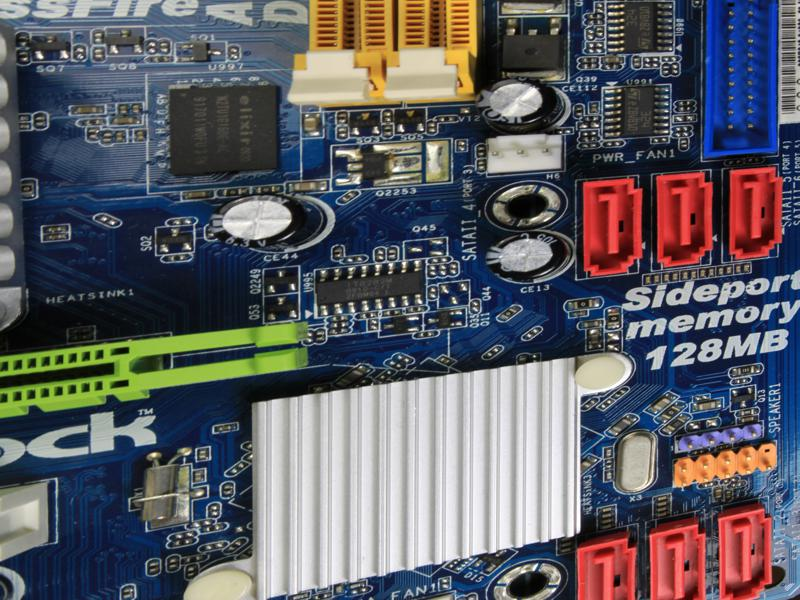Capacitor: (206, 195, 327, 253), (475, 76, 569, 136), (482, 231, 572, 284)
